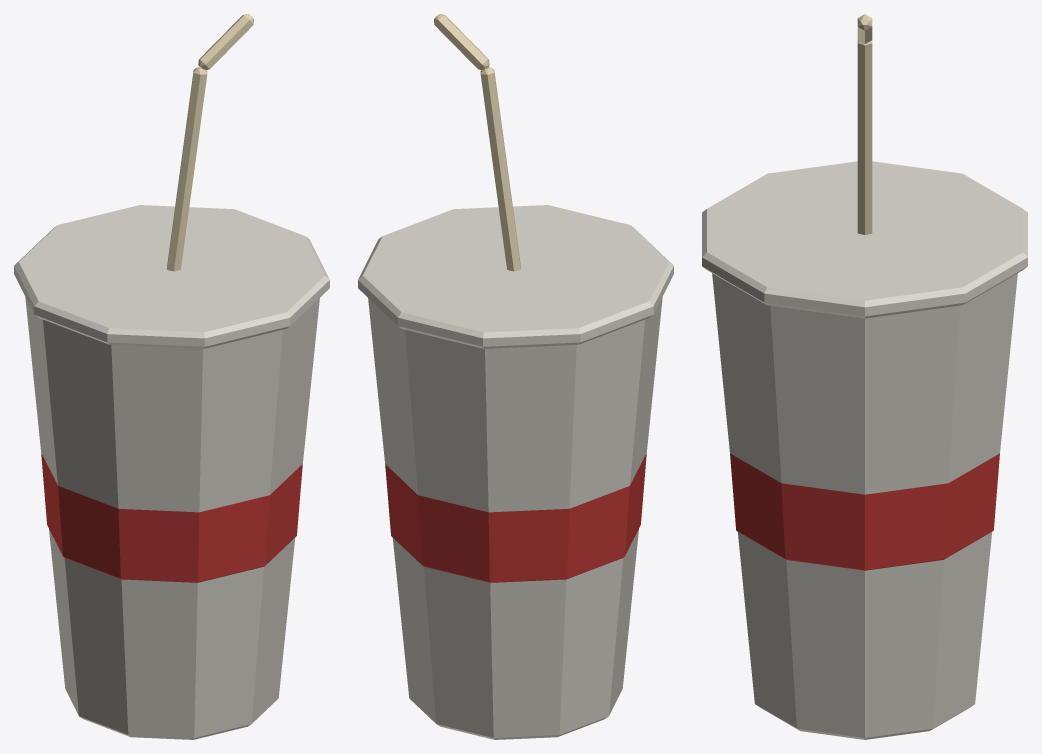
The model's file is b16_fountain_drink_with_straw.glb.
The picture shows the model from 3 angles, left to right: view 1: azimuth 30°, elevation 25°; view 2: azimuth 150°, elevation 25°; view 3: azimuth 270°, elevation 25°; orthographic projection. The views are drawn at different scales.
Parts seen in each view (by area): view 1: b16_fountain_drink_with_straw; view 2: b16_fountain_drink_with_straw; view 3: b16_fountain_drink_with_straw.
Boxes of the visible parts, left/top/right/bottom form: b16_fountain_drink_with_straw: left=14, top=14, right=329, bottom=739; b16_fountain_drink_with_straw: left=358, top=14, right=673, bottom=739; b16_fountain_drink_with_straw: left=702, top=14, right=1027, bottom=739.
Size of the model in its own units: 0.104 by 0.2402 by 0.0989.
